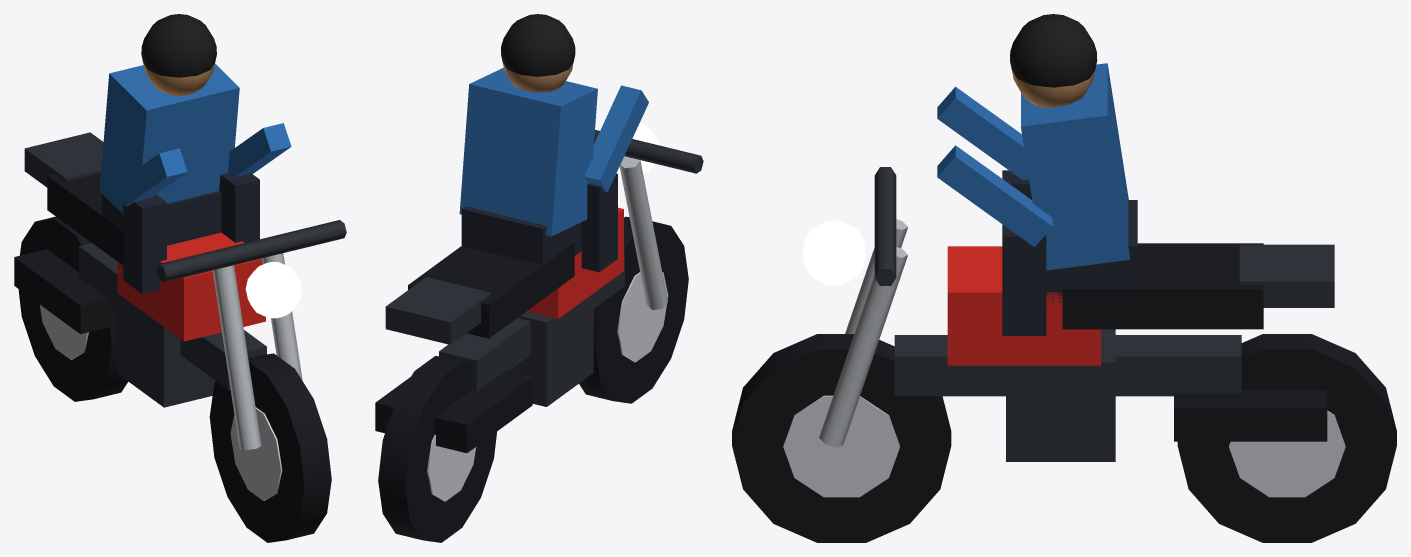
The model's file is motor_1.glb.
3 renders of one model, left to right at view 1: azimuth 30°, elevation 25°; view 2: azimuth 150°, elevation 25°; view 3: azimuth 270°, elevation 25°, orthographic. The views are drawn at different scales.
Visible parts, largest first — view 1: wheel_depan, object 14, wheel_belakang, object 5, object 4, object 12, object 8, object 16, object 3, object 10, object 18, object 6 (+8 smaller); view 2: object 14, wheel_belakang, wheel_depan, object 6, object 4, object 12, object 7, object 13, object 3, object 16, object 8, object 17 (+5 smaller); view 3: wheel_depan, wheel_belakang, object 14, object 6, object 3, object 4, object 5, object 12, object 7, object 16, object 9, object 19 (+7 smaller).
Boxes of the visible parts, x1=… form: wheel_depan: x1=209, y1=353, x2=331, y2=542; object 14: x1=99, y1=63, x2=239, y2=213; wheel_belakang: x1=18, y1=216, x2=128, y2=401; object 5: x1=117, y1=232, x2=265, y2=341; object 4: x1=116, y1=287, x2=215, y2=407; object 12: x1=14, y1=249, x2=116, y2=334; object 8: x1=212, y1=265, x2=261, y2=450; object 16: x1=141, y1=14, x2=216, y2=77; object 3: x1=78, y1=243, x2=266, y2=389; object 10: x1=157, y1=220, x2=346, y2=281; object 18: x1=123, y1=194, x2=166, y2=294; object 6: x1=47, y1=172, x2=123, y2=265; object 14: x1=459, y1=68, x2=597, y2=236; wheel_belakang: x1=378, y1=356, x2=496, y2=542; wheel_depan: x1=579, y1=216, x2=688, y2=403; object 6: x1=408, y1=242, x2=574, y2=338; object 4: x1=509, y1=293, x2=593, y2=406; object 12: x1=375, y1=370, x2=532, y2=453; object 7: x1=385, y1=277, x2=490, y2=344; object 13: x1=461, y1=206, x2=581, y2=265; object 3: x1=439, y1=252, x2=624, y2=391; object 16: x1=501, y1=14, x2=575, y2=76; object 8: x1=619, y1=156, x2=667, y2=309; object 17: x1=584, y1=85, x2=648, y2=192; wheel_depan: x1=732, y1=334, x2=951, y2=542; wheel_belakang: x1=1177, y1=334, x2=1396, y2=542; object 14: x1=1021, y1=63, x2=1129, y2=270; object 6: x1=1062, y1=243, x2=1263, y2=329; object 3: x1=894, y1=335, x2=1241, y2=396; object 4: x1=1006, y1=329, x2=1115, y2=461; object 5: x1=947, y1=246, x2=1100, y2=365; object 12: x1=1174, y1=390, x2=1327, y2=441; object 7: x1=1239, y1=244, x2=1334, y2=307; object 16: x1=1010, y1=14, x2=1097, y2=87; object 9: x1=819, y1=247, x2=907, y2=447; object 19: x1=937, y1=145, x2=1052, y2=247.
Bounding box in the file's own units: 0.66 × 1.56 × 1.82.
